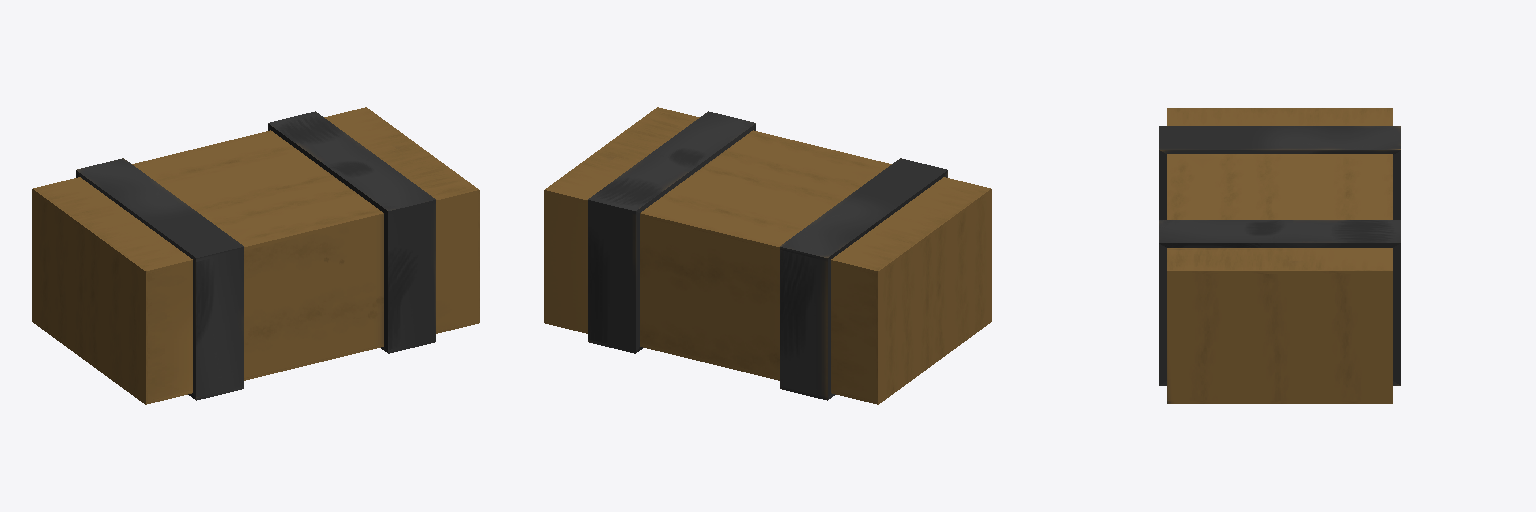
3 renders of one model, left to right at view 1: azimuth 30°, elevation 25°; view 2: azimuth 150°, elevation 25°; view 3: azimuth 270°, elevation 25°, orthographic.
Visible parts, largest first — view 1: Cube; view 2: Cube; view 3: Cube.
Part boxes in pixels (x1,y1,x2,y2): Cube: (32,107,479,404); Cube: (544,107,991,404); Cube: (1159,108,1400,403).
Bounding box in the file's own units: 5.24 × 2.13 × 3.28.
1 materials, 1 textured.